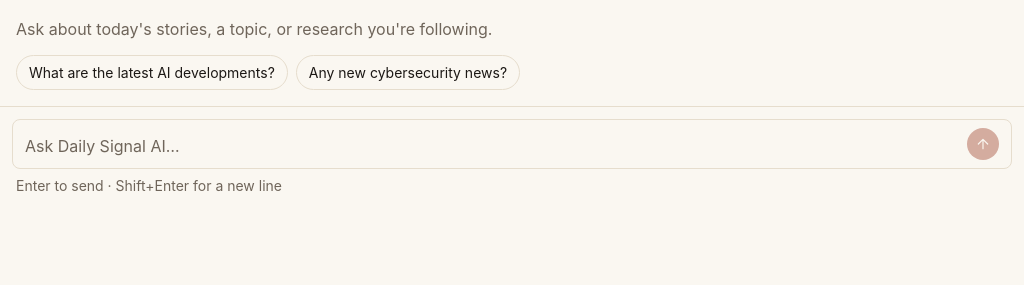
Scenario: sending and rendering answers › renders fenced code blocks
The width and height of the screenshot is (1024, 285).
In the text box named "Message Daily Signal AI": (492, 147) [25,133,959,160], type "code"
Then press Enter
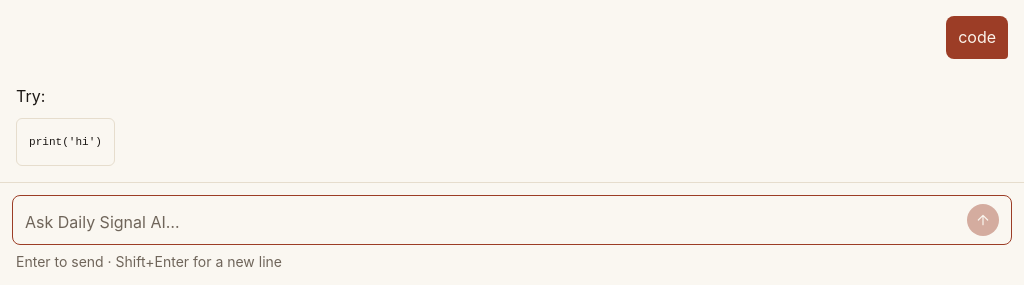
Now the text "print('hi')" is shown, box [29,136,102,148]
